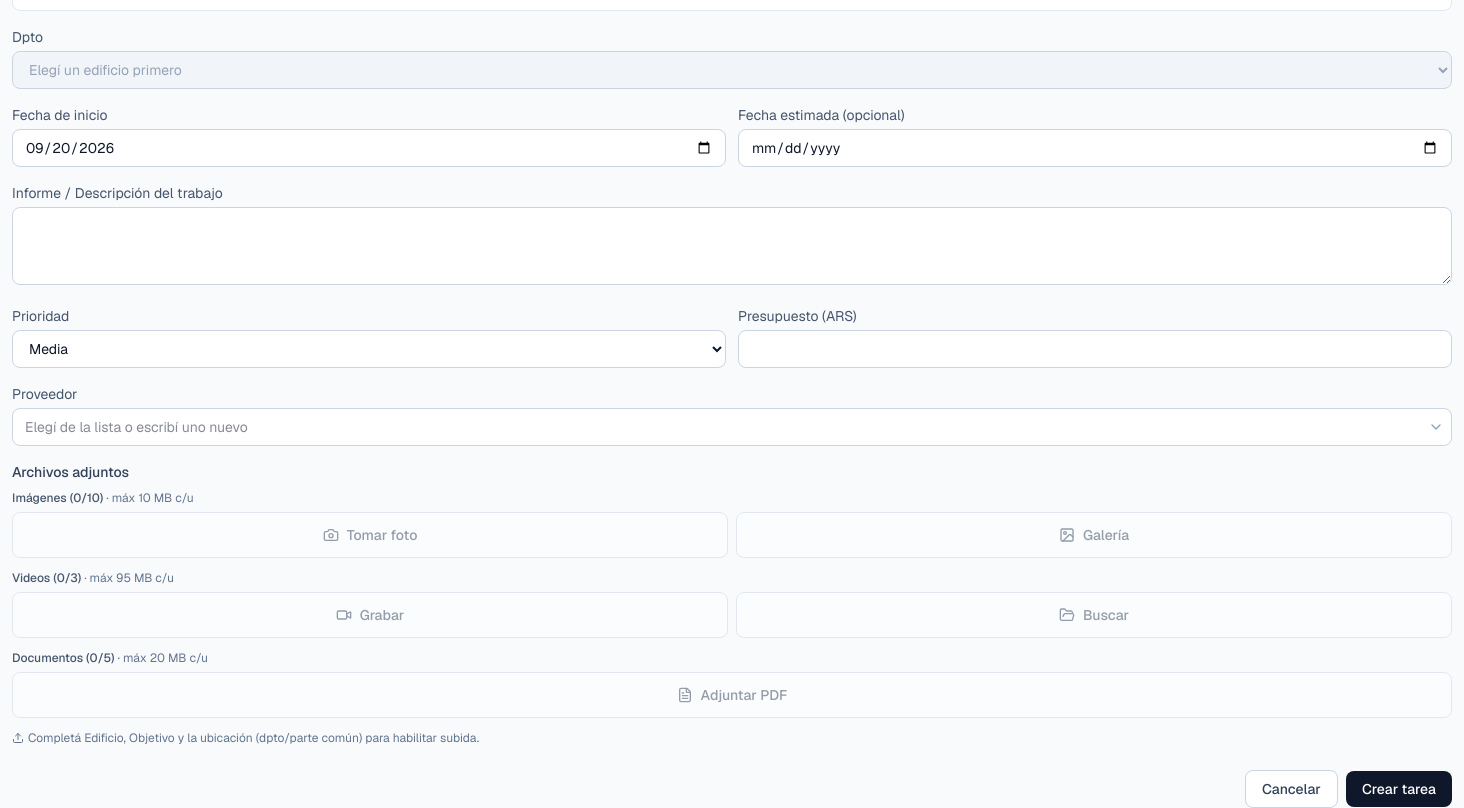
Scenario: TareaForm (componente) › bloquea el submit y muestra errores si faltan campos requeridos
(page scrolled)
Click the button "Crear tarea" at (1399, 789), box [1346, 771, 1452, 807]
(page scrolled)
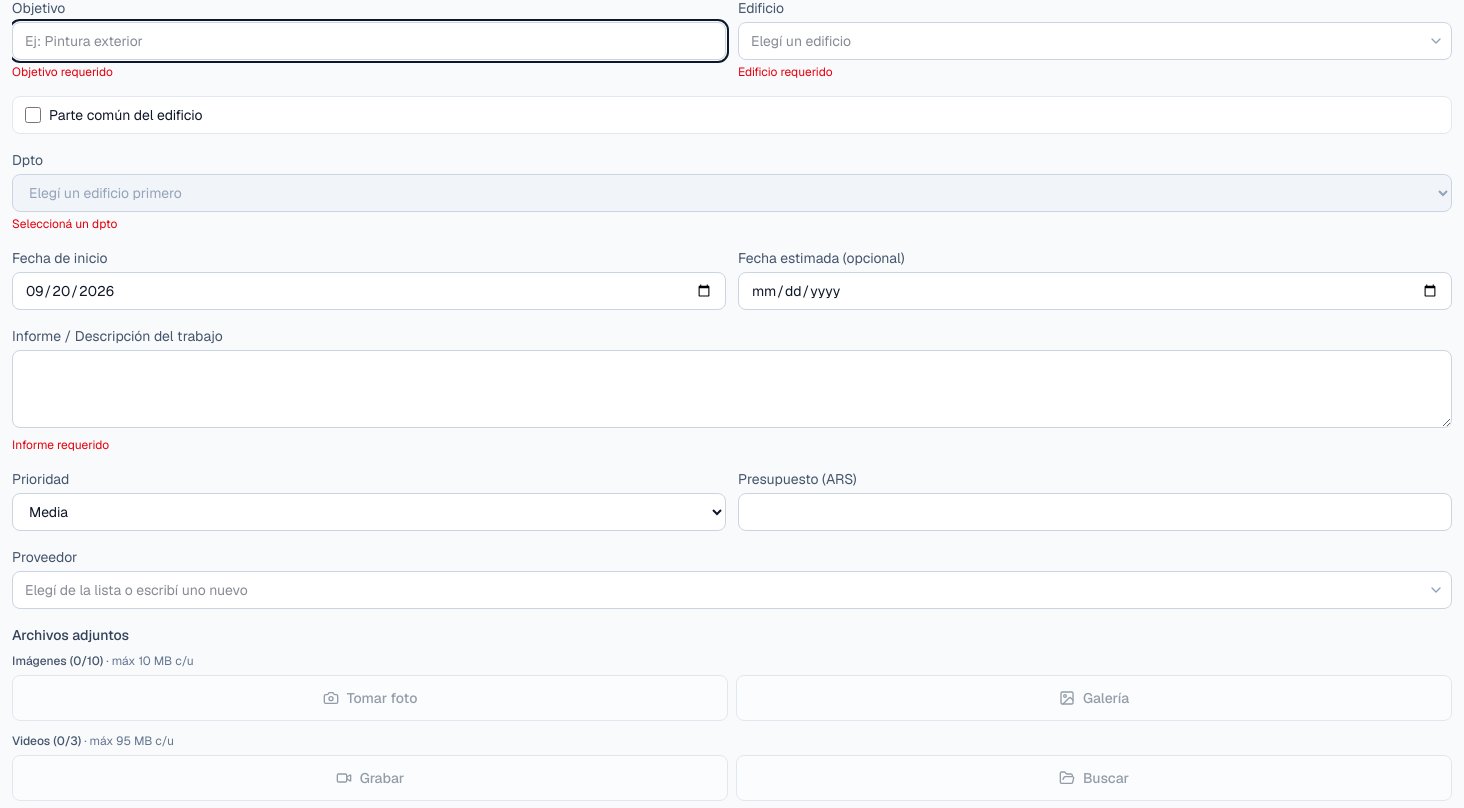
Check: the text "Objetivo requerido" is shown, box [12, 64, 113, 80]
